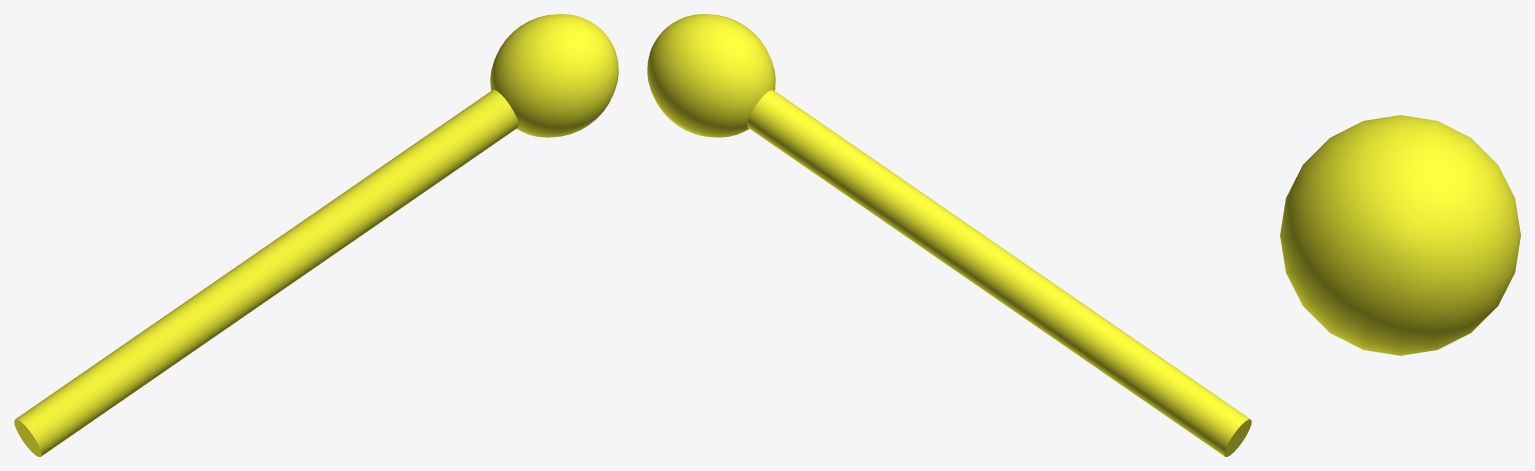
File: hand.obj
The picture shows the model from 3 angles, left to right: view 1: azimuth 30°, elevation 25°; view 2: azimuth 150°, elevation 25°; view 3: azimuth 270°, elevation 25°; orthographic projection. The views are drawn at different scales.
Visible parts, largest first — view 1: pasted__pCylinder6 group; view 2: pasted__pCylinder6 group; view 3: pasted__pCylinder6 group.
Boxes of the visible parts, x1,y1,x2,y2 form: pasted__pCylinder6 group: (14,14,618,456); pasted__pCylinder6 group: (647,14,1251,456); pasted__pCylinder6 group: (1280,115,1520,355).
Bounding box in the file's own units: 2.19 × 1.09 × 0.3859.
